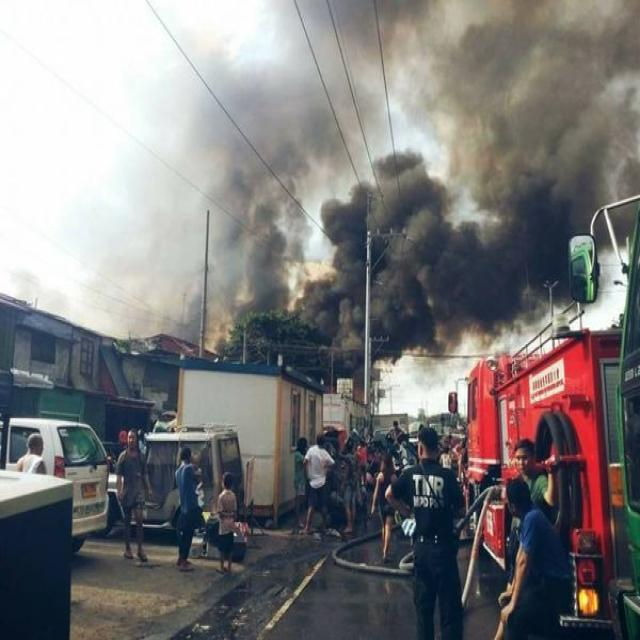Smoke: (421, 1, 634, 188), (312, 168, 524, 322), (218, 83, 332, 314)
